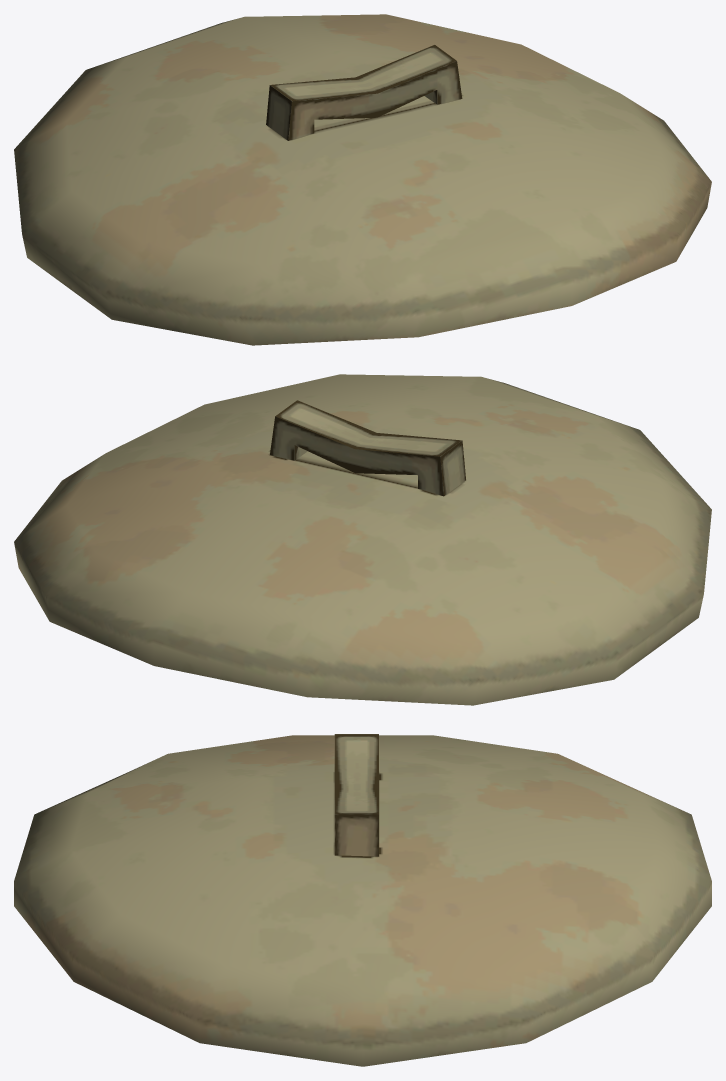
Rendered from SM_trash_can_02.glb.
3 views of the same model, one above another, from view 1: azimuth 30°, elevation 25°; view 2: azimuth 150°, elevation 25°; view 3: azimuth 270°, elevation 25° (orthographic).
Parts seen in each view (by area): view 1: SM_trash_can_02; view 2: SM_trash_can_02; view 3: SM_trash_can_02.
Part boxes in pixels (x1,y1,x2,y2): SM_trash_can_02: [14, 14, 711, 345]; SM_trash_can_02: [14, 374, 711, 705]; SM_trash_can_02: [14, 734, 711, 1066].
Bounding box in the file's own units: 0.9129 × 0.2168 × 0.9267.
Materials: 1 (1 with a texture image).
